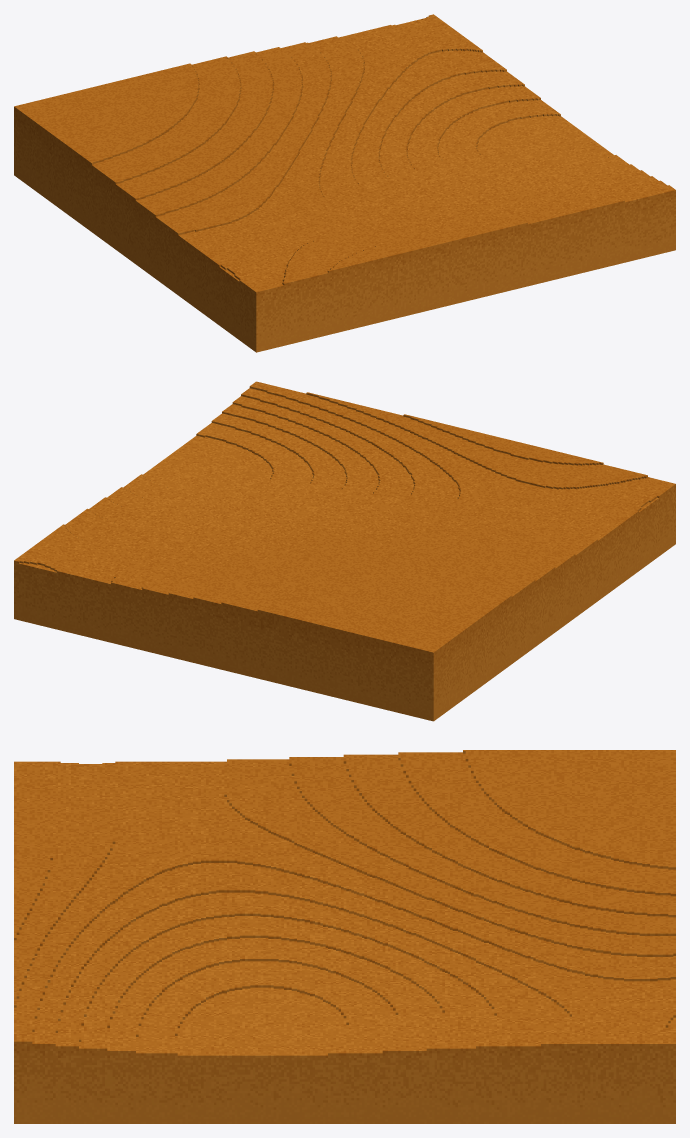
The model's file is Marte-4.obj.
3 views of the same model, one above another, from view 1: azimuth 30°, elevation 25°; view 2: azimuth 150°, elevation 25°; view 3: azimuth 270°, elevation 25° (orthographic). The views are drawn at different scales.
Bounding box in the file's own units: 25.5 × 4 × 25.5.
Materials: 1 (1 with a texture image).
